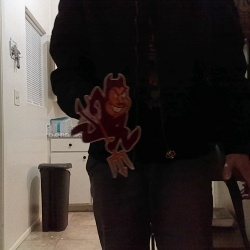sparky: (69, 72, 142, 177)
